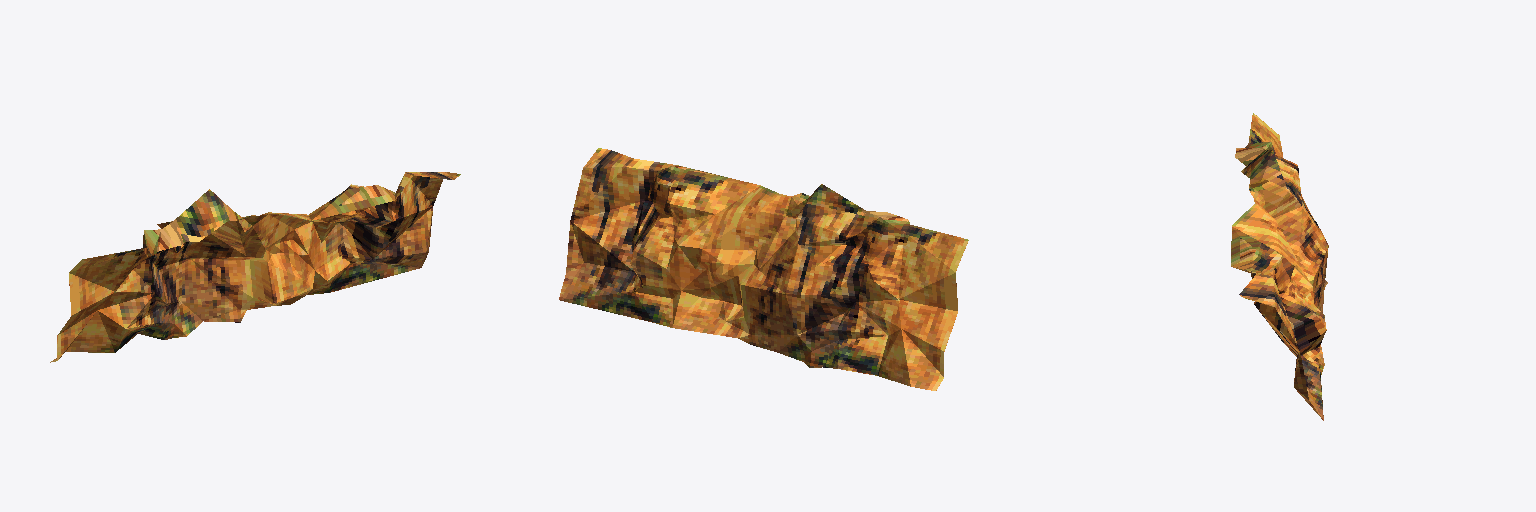
The picture shows the model from 3 angles: view 1: azimuth 30°, elevation 25°; view 2: azimuth 150°, elevation 25°; view 3: azimuth 270°, elevation 25°; orthographic projection.
Visible parts, largest first — view 1: Plane05; view 2: Plane05; view 3: Plane05.
Part boxes in pixels (x1,y1,x2,y2): Plane05: (50, 172, 460, 362); Plane05: (559, 148, 968, 390); Plane05: (1231, 113, 1328, 420).
Bounding box in the file's own units: 40 × 16.7 × 9.01.
1 materials, 1 textured.